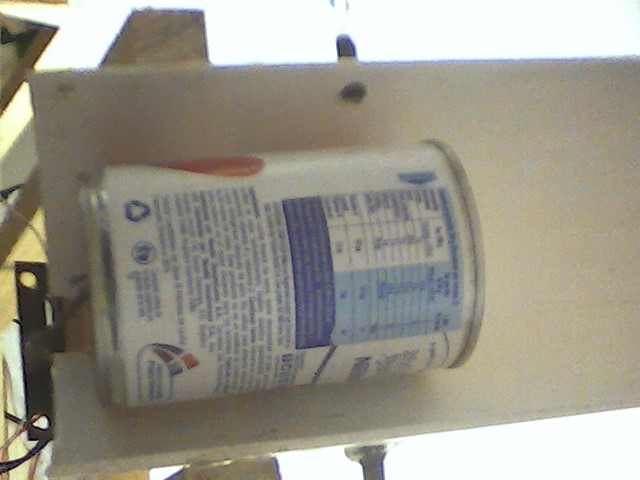lata: (72, 137, 495, 407)
